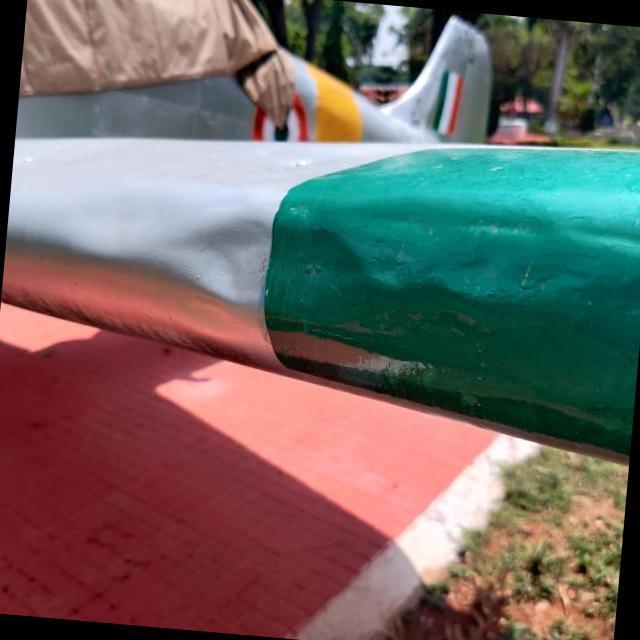Dent: (140, 186, 386, 347)
